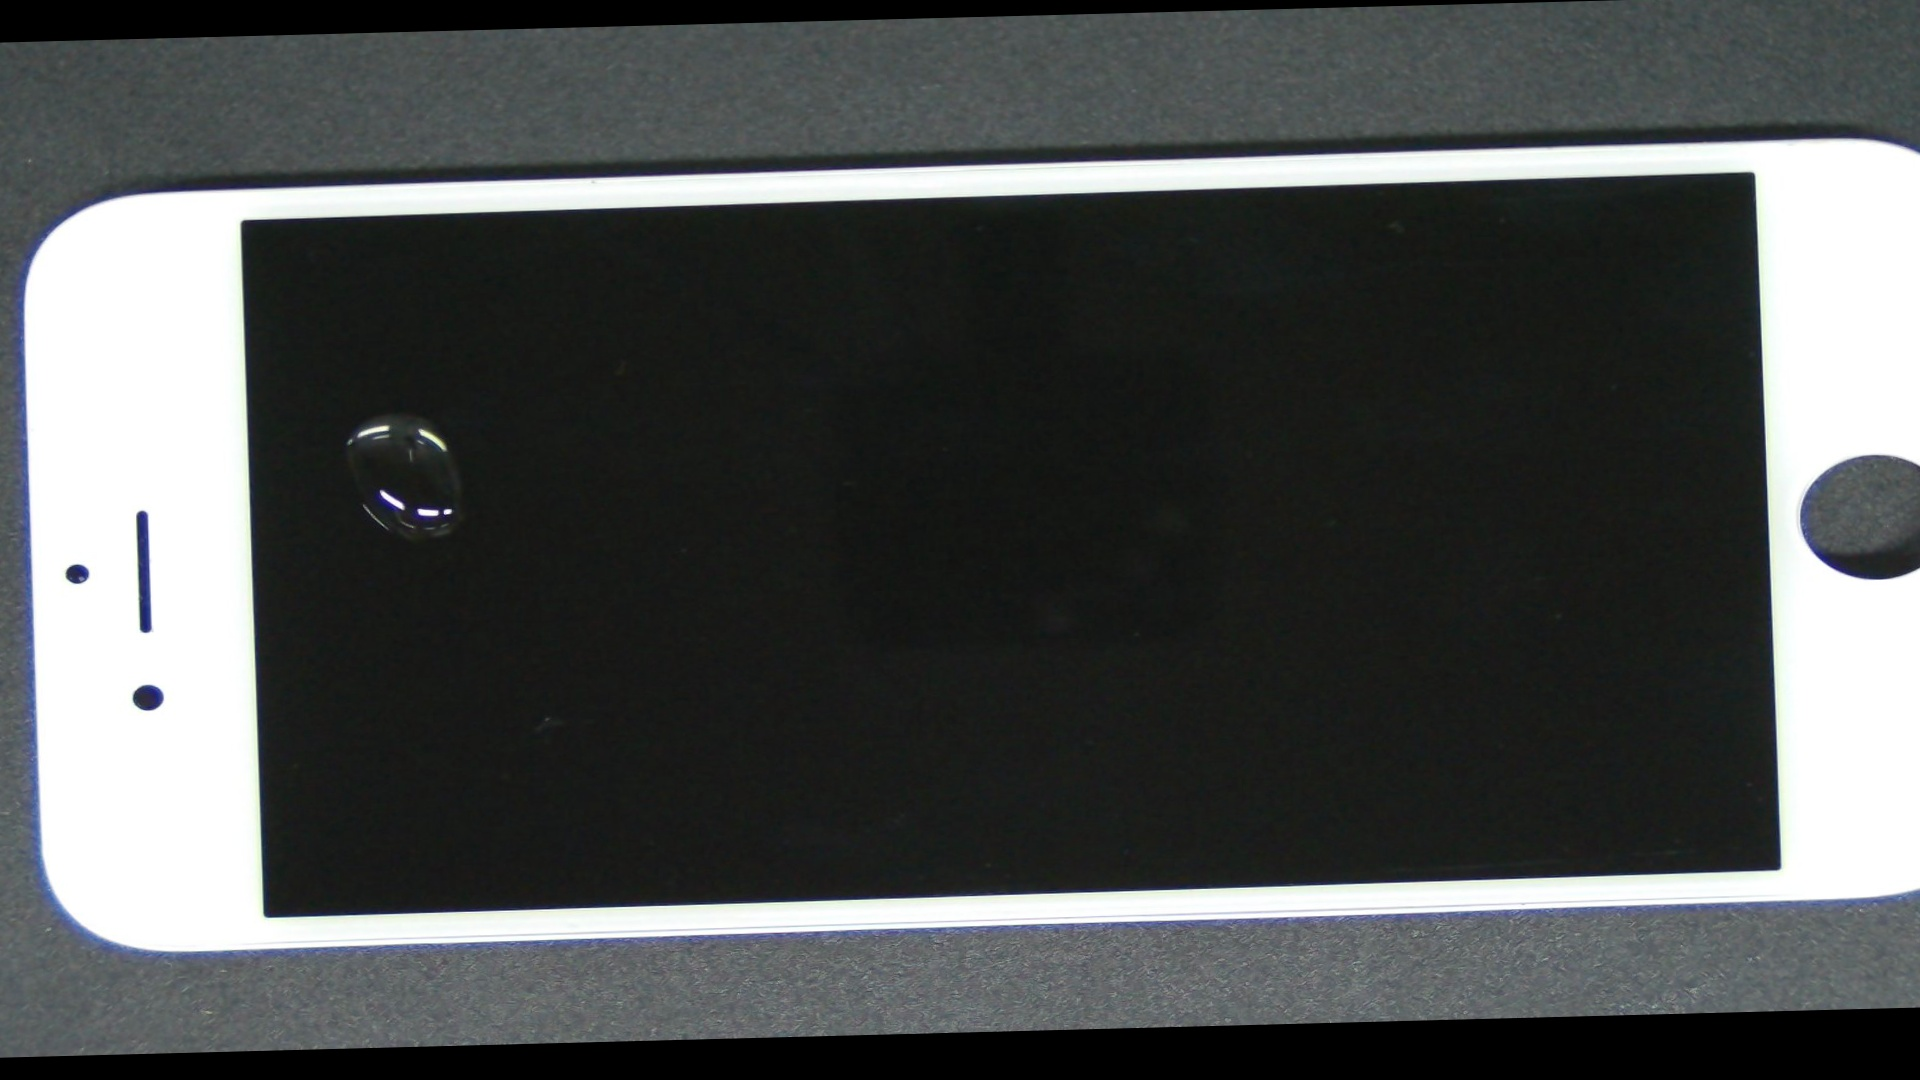oil: (134, 216, 640, 612)
